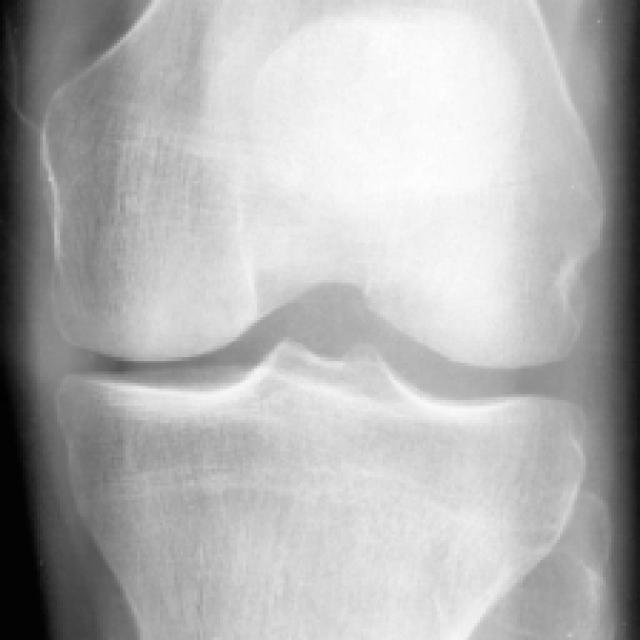femur: (37, 1, 607, 369)
tibia: (60, 338, 586, 640)
